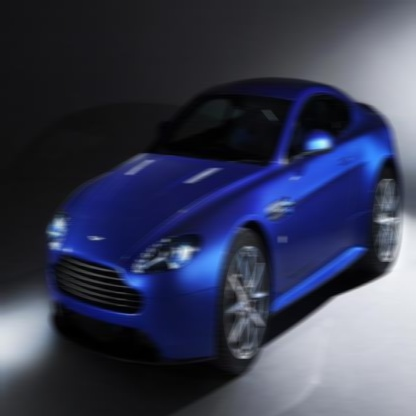Vehicle: (42, 70, 404, 382)
